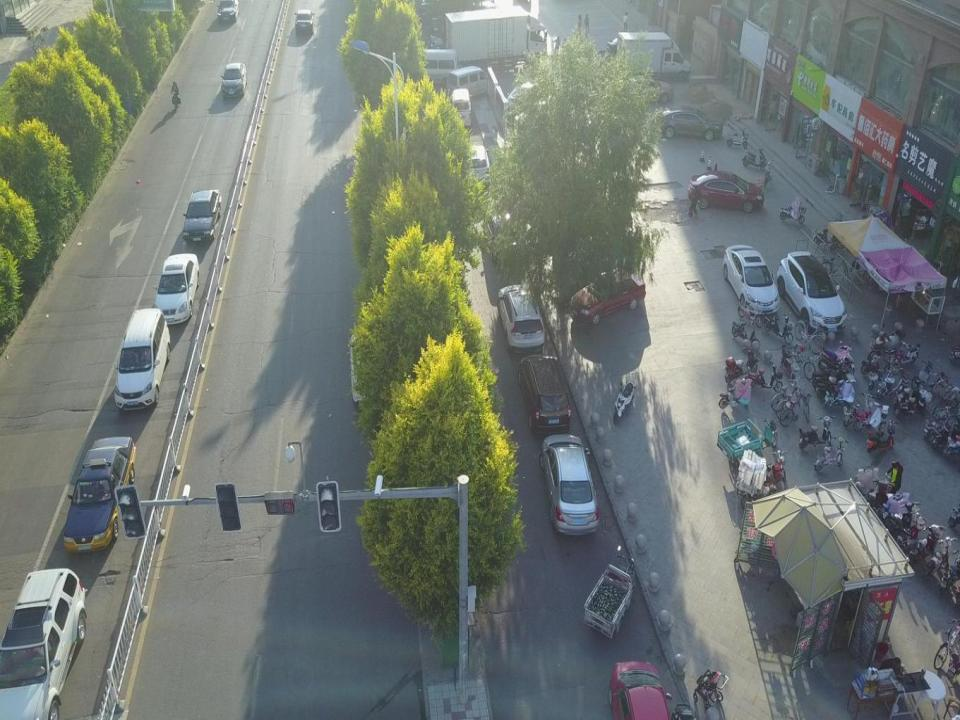car: (0, 566, 88, 694), (64, 436, 136, 552), (538, 432, 601, 536), (777, 251, 847, 333), (517, 353, 572, 435), (570, 269, 646, 326), (723, 244, 780, 314), (610, 660, 675, 720), (496, 281, 546, 349), (687, 169, 764, 213), (153, 253, 199, 323), (654, 106, 722, 142), (182, 188, 222, 241), (482, 211, 520, 261), (618, 74, 673, 106), (221, 62, 248, 97), (608, 36, 649, 56), (294, 9, 314, 37), (216, 0, 239, 24), (427, 33, 445, 55), (430, 16, 446, 34)
truck: (445, 6, 547, 72), (618, 30, 691, 80)
van: (114, 308, 170, 409), (416, 49, 458, 82), (448, 65, 490, 97), (464, 145, 490, 185), (450, 89, 472, 129)
